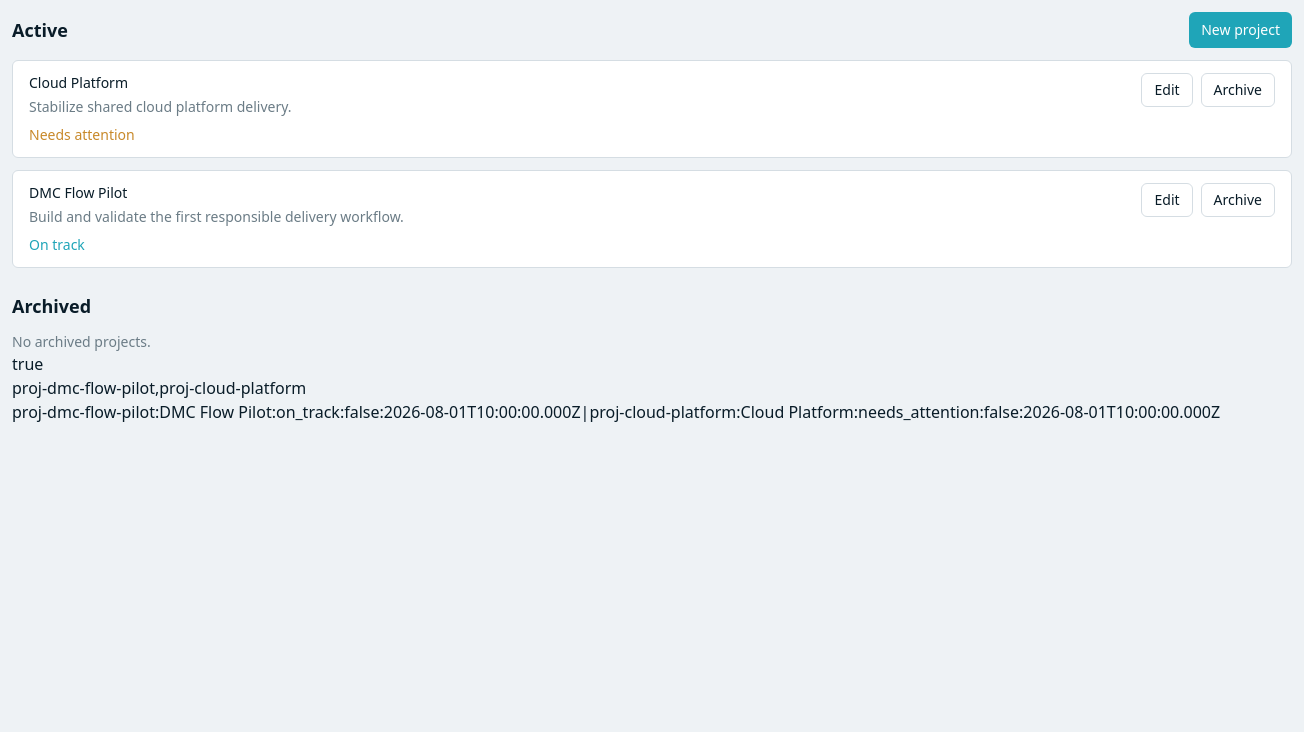
Test case: ProjectsView › edits a project name and health inline
Check: the text with test id "hydrated" reads "true", box [12,353,43,375]
Check: the list item "Cloud Platform" is shown, box [12,60,1292,158]
Click the 1st button "Edit" at (1167, 90), box [1142,73,1193,107]
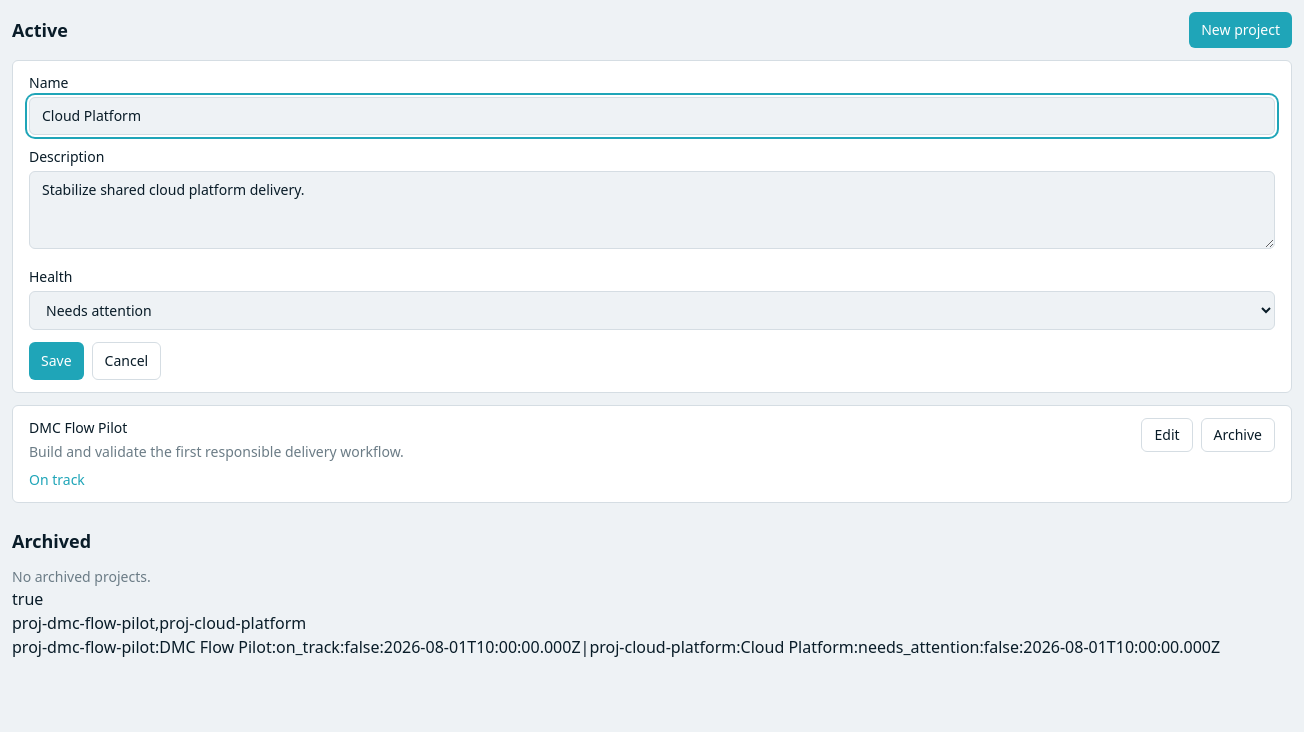
Replace the text in the field labelled "Name" with "Cloud Platform Renamed" at (652, 116), box [29,97,1275,135]
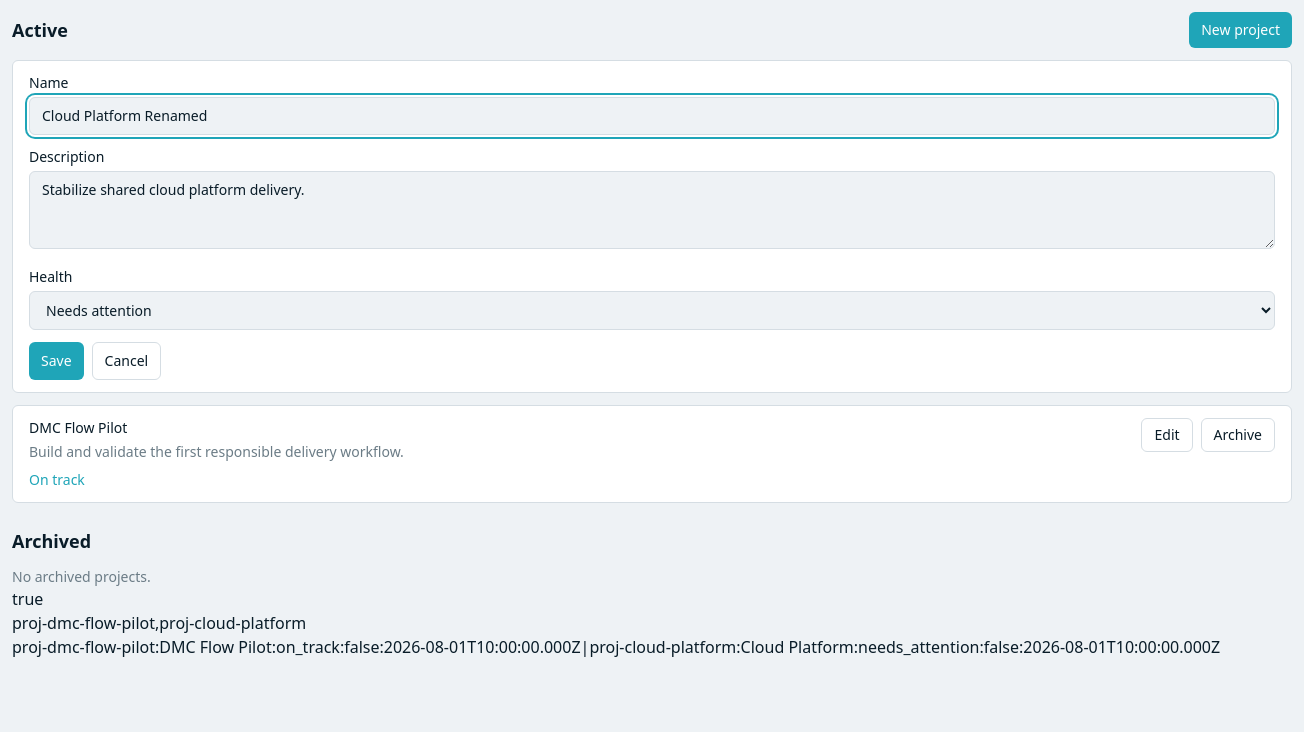
Select "On track" in the dropdown labelled "Health" at (652, 310), box [29,291,1275,330]
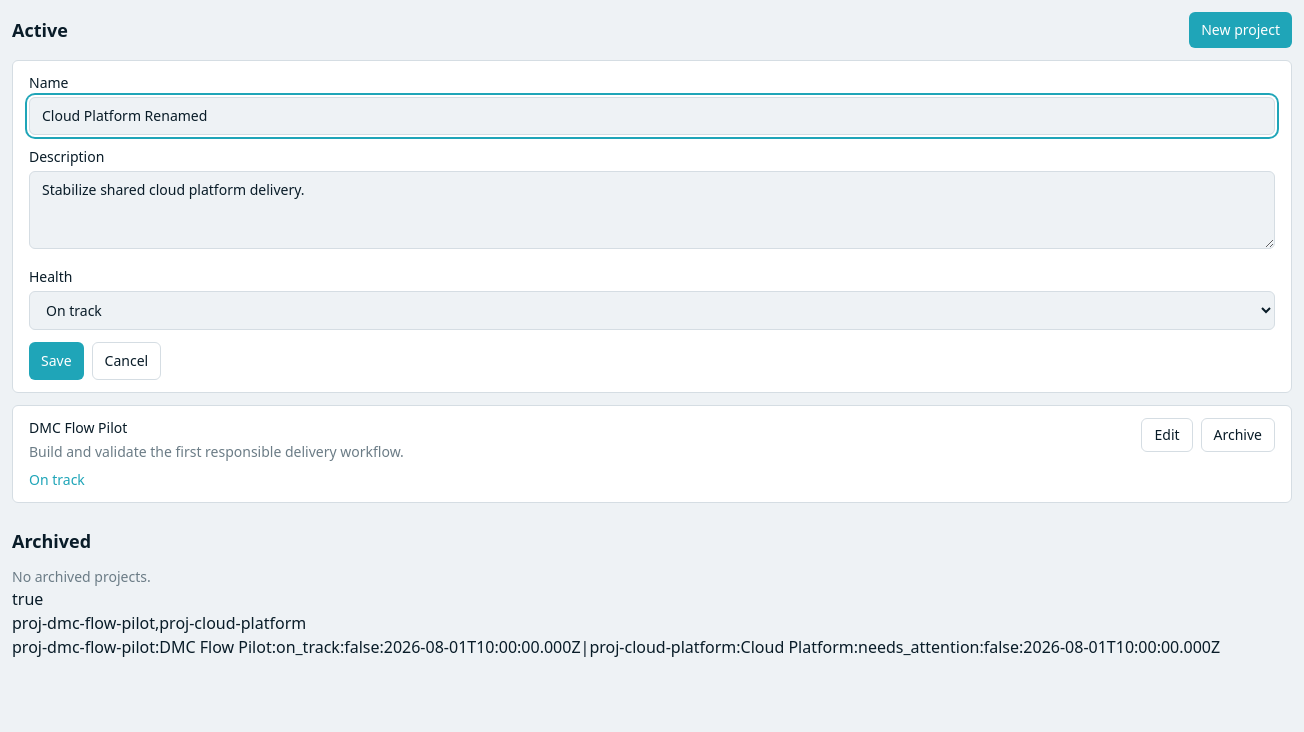
Click the button "Save" at (56, 361), box [29,342,84,380]
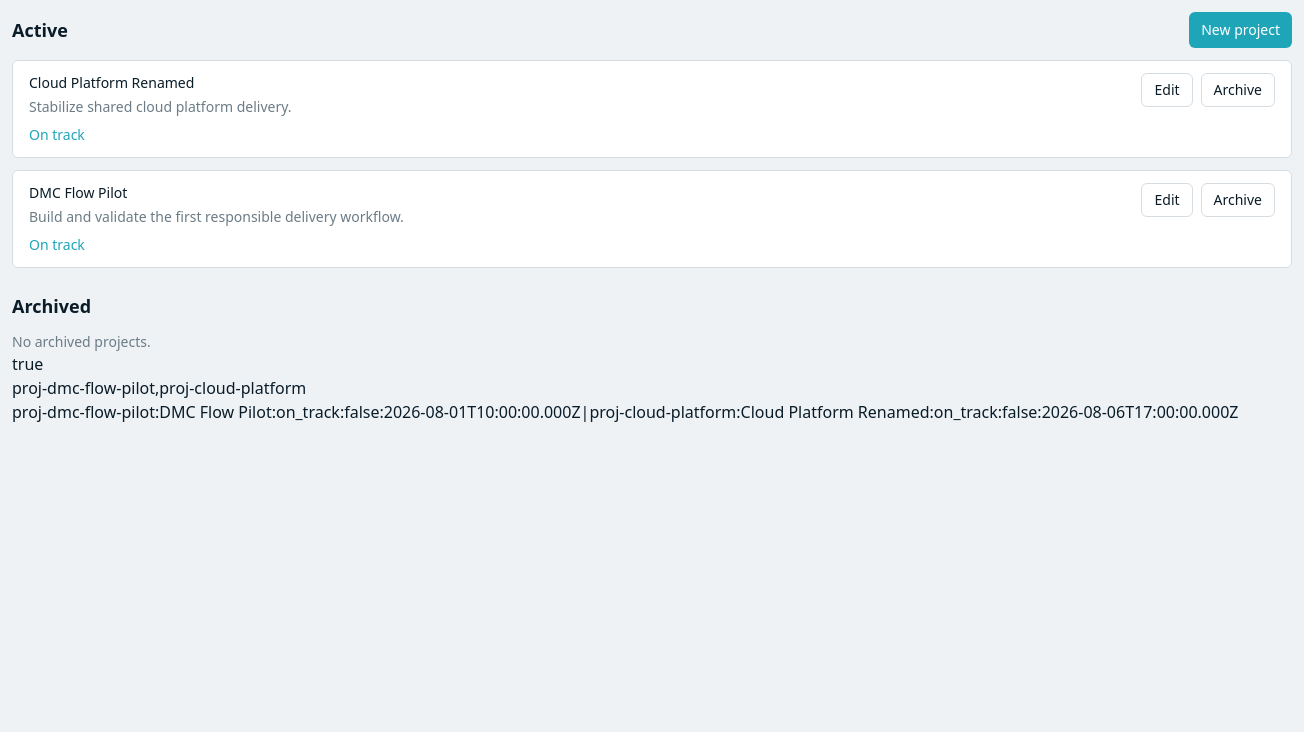
Check: the heading "Cloud Platform Renamed" is shown, box [29,73,194,92]
